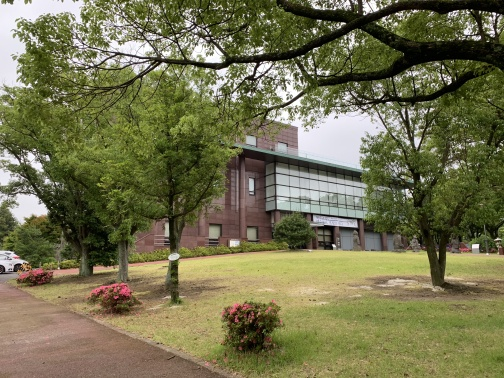Museum: (210, 106, 407, 258)
